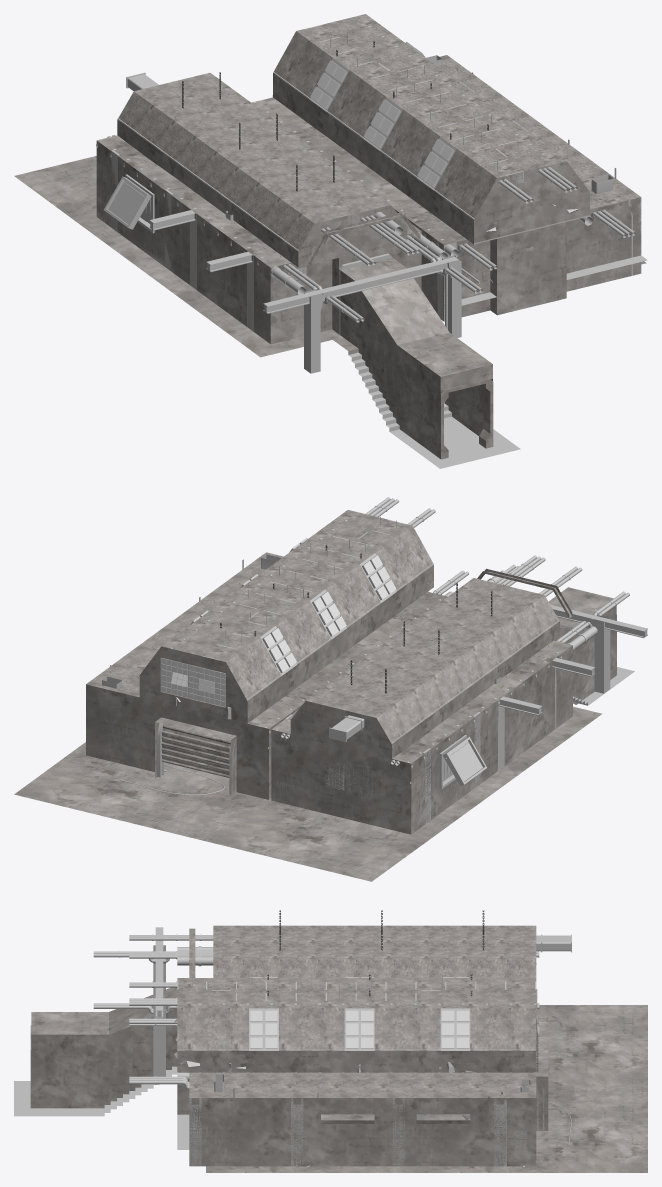
File: MainMenueRevised.fbx
3 views of the same model, one above another, from view 1: azimuth 30°, elevation 25°; view 2: azimuth 150°, elevation 25°; view 3: azimuth 270°, elevation 25° (orthographic). The views are drawn at different scales.
Visible parts, largest first — view 1: SM_MainM01_Walls, SM_MainM01_Roof, SM_MainM01_Ground, SM_MainM01_SupportBeams, SM_MainM01_PipesBaige, SM_MainM01_Stairs, SM_MainM01_WindowGlass, SM_MainM01_Vents.001, SM_MainM01_SmallWindow, SM_MainM01_Doors, SM_MainM01_WindowFrame, SM_MainM01_BigPipe (+2 smaller); view 2: SM_MainM01_Walls, SM_MainM01_Roof, SM_MainM01_Ground, SM_MainM01_WindowGlass, SM_MainM01_SupportBeams, SM_MainM01_GarageDoor, SM_MainM01_PipesBaige, SM_MainM01_WindowFrame, SM_MainM01_Vents.001, SM_MainM01_SmallWindow, SM_MainM01_WallDecor, SM_MainM01_BigPipe; view 3: SM_MainM01_Roof, SM_MainM01_Walls, SM_MainM01_Ground, SM_MainM01_SupportBeams, SM_MainM01_PipesBaige, SM_MainM01_WindowGlass, SM_MainM01_WindowFrame, SM_MainM01_Stairs, SM_MainM01_Vents.001, SM_MainM01_BigPipe, SM_MainM01_RaisedPlatform.
Boxes of the visible parts, box(x1,y1,x2,y2) form: SM_MainM01_Walls: box(96, 73, 641, 458); SM_MainM01_Roof: box(117, 14, 640, 265); SM_MainM01_Ground: box(14, 156, 646, 357); SM_MainM01_SupportBeams: box(149, 68, 641, 373); SM_MainM01_PipesBaige: box(107, 135, 635, 322); SM_MainM01_Stairs: box(348, 352, 520, 468); SM_MainM01_WindowGlass: box(310, 60, 452, 186); SM_MainM01_Vents.001: box(126, 24, 613, 279); SM_MainM01_SmallWindow: box(104, 174, 154, 233); SM_MainM01_Doors: box(339, 253, 493, 459); SM_MainM01_WindowFrame: box(310, 41, 532, 190); SM_MainM01_BigPipe: box(96, 16, 593, 294); SM_MainM01_Walls: box(86, 565, 616, 834); SM_MainM01_Roof: box(86, 510, 572, 743); SM_MainM01_Ground: box(14, 706, 602, 881); SM_MainM01_WindowGlass: box(161, 555, 396, 706); SM_MainM01_SupportBeams: box(110, 604, 647, 770); SM_MainM01_GarageDoor: box(161, 724, 230, 777); SM_MainM01_PipesBaige: box(280, 497, 629, 765); SM_MainM01_WindowFrame: box(161, 538, 396, 705); SM_MainM01_Vents.001: box(102, 516, 548, 742); SM_MainM01_SmallWindow: box(439, 735, 486, 789); SM_MainM01_WallDecor: box(274, 712, 480, 823); SM_MainM01_BigPipe: box(170, 520, 597, 769); SM_MainM01_Roof: box(177, 925, 536, 1097); SM_MainM01_Walls: box(31, 987, 548, 1166); SM_MainM01_Ground: box(206, 1005, 647, 1172); SM_MainM01_SupportBeams: box(153, 927, 506, 1166); SM_MainM01_PipesBaige: box(93, 934, 539, 1089); SM_MainM01_WindowGlass: box(250, 1010, 539, 1047); SM_MainM01_WindowFrame: box(249, 977, 539, 1050); SM_MainM01_Stairs: box(14, 1066, 177, 1116); SM_MainM01_Vents.001: box(177, 934, 571, 1120); SM_MainM01_BigPipe: box(177, 946, 536, 1080); SM_MainM01_RaisedPlatform: box(177, 1114, 299, 1165).
Size of the model in its own units: 3510 by 1621 by 5299.
